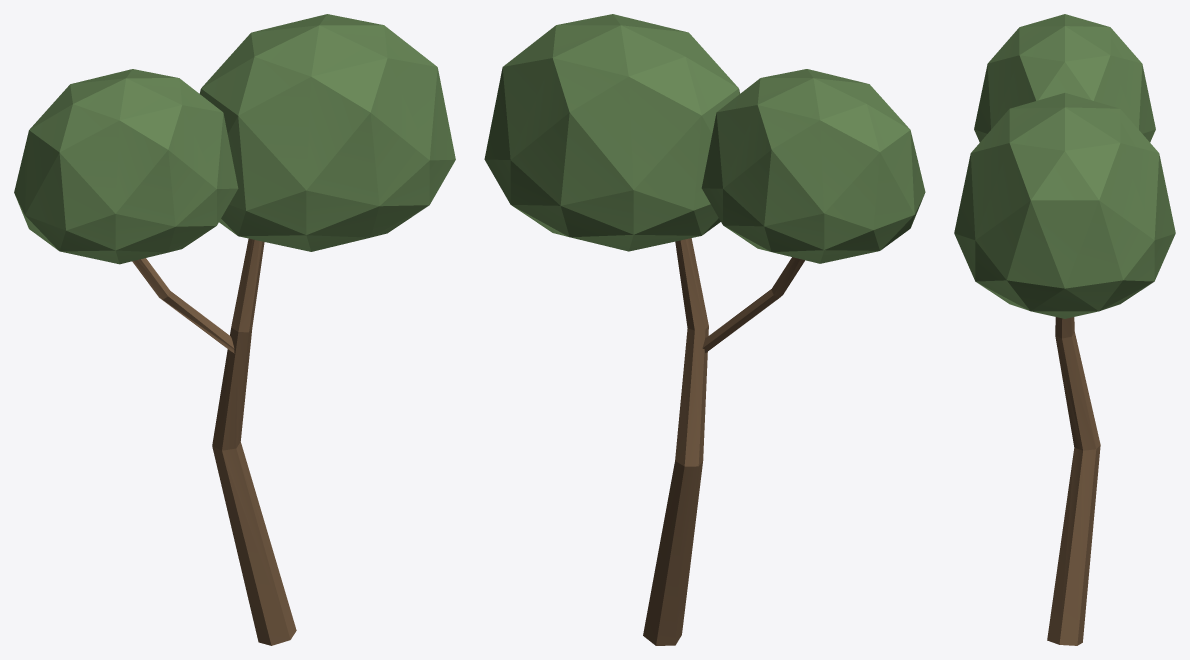
File: tree_green_5.glb
3 renders of one model, left to right at view 1: azimuth 30°, elevation 25°; view 2: azimuth 150°, elevation 25°; view 3: azimuth 270°, elevation 25°, orthographic. The views are drawn at different scales.
Parts seen in each view (by area): view 1: Tree Yellow 6.107; view 2: Tree Yellow 6.107; view 3: Tree Yellow 6.107.
Part boxes in pixels (x1,y1,x2,y2): Tree Yellow 6.107: (14, 14, 455, 645); Tree Yellow 6.107: (484, 14, 925, 645); Tree Yellow 6.107: (954, 14, 1175, 645).
Size of the model in its own units: 0.1788 by 0.2475 by 0.0893.
